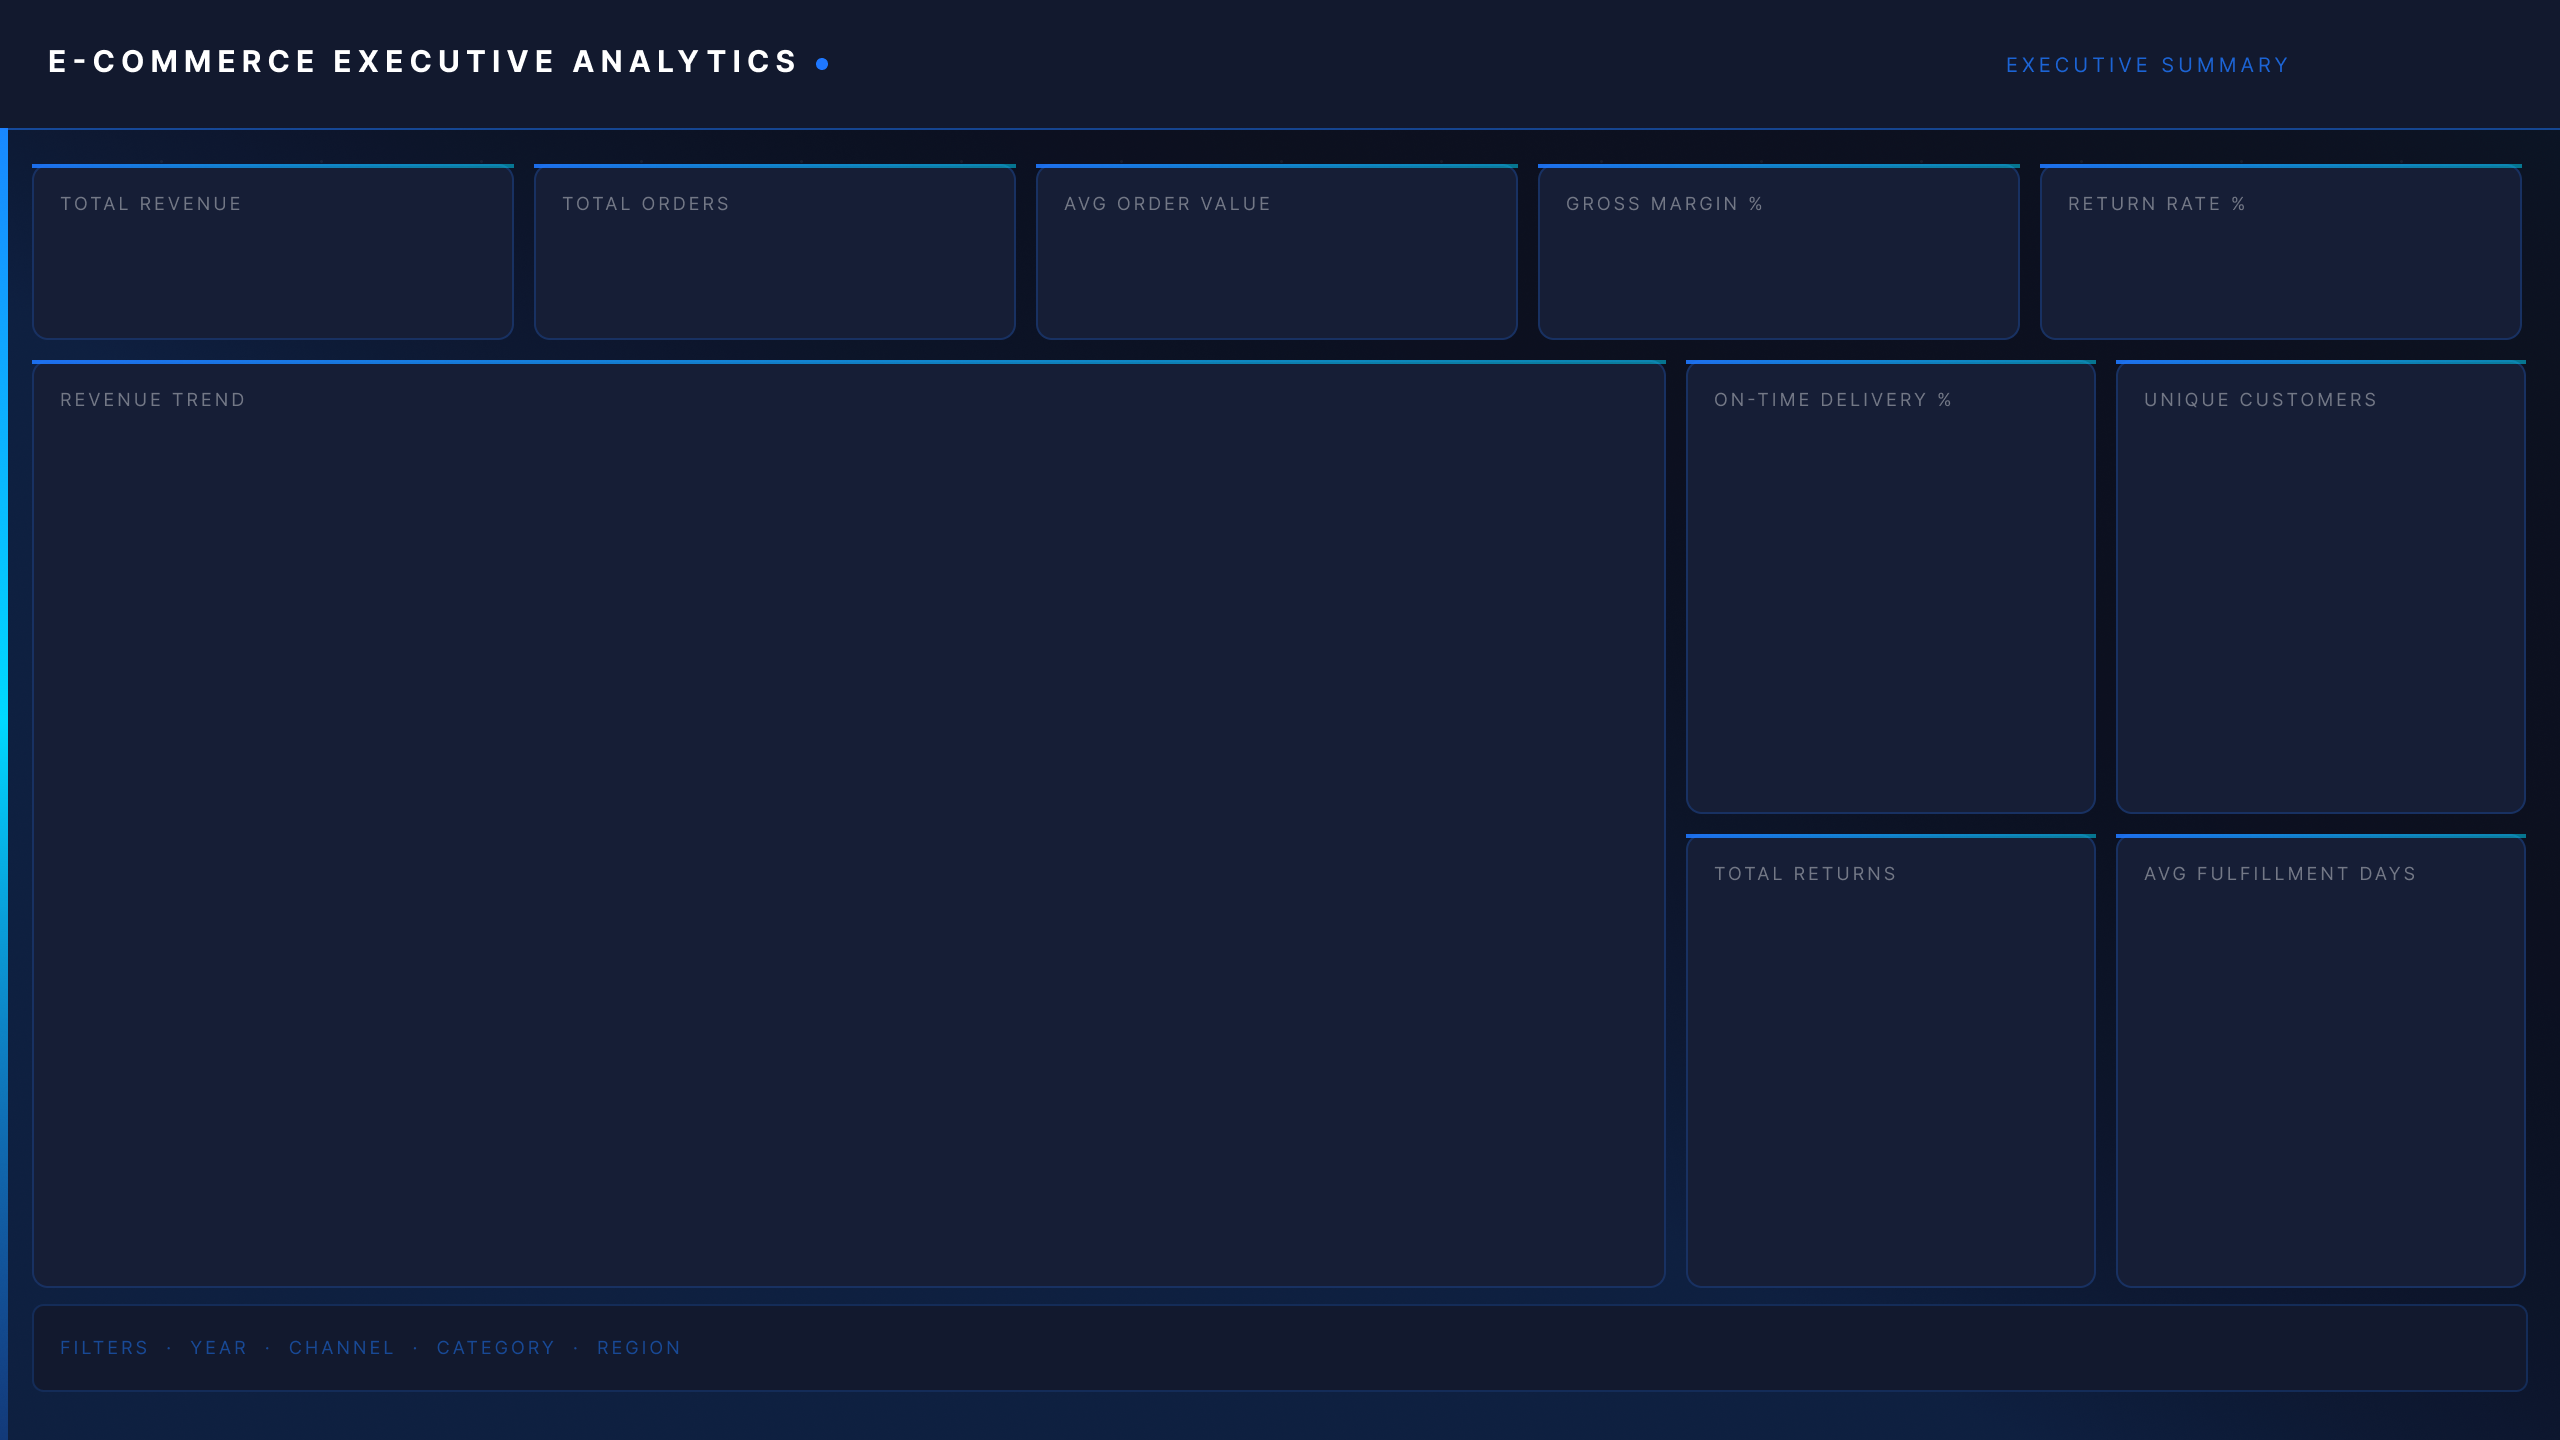

This screenshot's page, from the dashboard's own definition file:
{"tool":"powerbi","page":{"name":"Executive Summary","canvas":[1280,720],"ordinal":0},"visuals":[{"type":"cardVisual","fields":{"Data":["_Measures.Total Revenue"]},"box":[16,88,240,88],"z":0,"group":"g1"},{"type":"gauge","fields":{"Y":["_Measures.On-Time Delivery %"],"TargetValue":["_Measures.On-Time Delivery Target"]},"box":[861.9,218.5,168,176],"z":0,"group":"g2"},{"type":"cardVisual","fields":{"Data":["_Measures.Total Orders"]},"box":[264,88,248,88],"z":1000,"group":"g1"},{"type":"stackedAreaChart","fields":{"Y":["_Measures.Revenue MTD","_Measures.Revenue YTD","_Measures.Revenue Rolling 3M","_Measures.Revenue Rolling 12M"],"Category":["dim_date.Date"]},"box":[32,208,800,440],"z":1000},{"type":"gauge","fields":{"Y":["_Measures.Unique Customers"],"TargetValue":["_Measures.Unique Customers Target"]},"box":[1077.9,218.5,168,176],"z":1000,"group":"g2"},{"type":"group","id":"g1","title":"Group 1","box":[16,88,1240,88],"z":2000},{"type":"cardVisual","fields":{"Data":["_Measures.Avg Order Value"]},"box":[520,88,240,88],"z":2000,"group":"g1"},{"type":"gauge","fields":{"TargetValue":["_Measures.Total Returns Target"],"Y":["_Measures.Total Returns"]},"box":[861.9,450.5,168,176],"z":2000,"group":"g2"},{"type":"cardVisual","fields":{"Data":["_Measures.Gross Margin %"]},"box":[768,88,240,88],"z":3000,"group":"g1"},{"type":"group","id":"g2","title":"Group 2","box":[861.9,218.5,384,408],"z":3000},{"type":"gauge","fields":{"Y":["_Measures.Avg Fulfillment Days"],"TargetValue":["_Measures.Avg Fulfillment Days Target"]},"box":[1077.9,450.5,168,176],"z":3000,"group":"g2"},{"type":"cardVisual","fields":{"Data":["_Measures.Return Rate %"]},"box":[1016,88,240,88],"z":4000,"group":"g1"},{"type":"slicer","fields":{"Values":["dim_date.Year"]},"box":[32,656,416,40],"z":4000},{"type":"slicer","fields":{"Values":["dim_product.Category"]},"box":[544,656,704,40],"z":5000}]}

Visuals, with their boxes in screenshot pixels (x1, y1, x2, y2), scaled from the page's 1280x720 canvas onto the 2560x1440 screenshot:
cardVisual - _Measures.Total Revenue: {"x1": 32, "y1": 176, "x2": 512, "y2": 352}
gauge - _Measures.On-Time Delivery % x _Measures.On-Time Delivery Target: {"x1": 1724, "y1": 437, "x2": 2060, "y2": 789}
cardVisual - _Measures.Total Orders: {"x1": 528, "y1": 176, "x2": 1024, "y2": 352}
stackedAreaChart - _Measures.Revenue MTD x _Measures.Revenue YTD: {"x1": 64, "y1": 416, "x2": 1664, "y2": 1296}
gauge - _Measures.Unique Customers x _Measures.Unique Customers Target: {"x1": 2156, "y1": 437, "x2": 2492, "y2": 789}
"Group 1" group: {"x1": 32, "y1": 176, "x2": 2512, "y2": 352}
cardVisual - _Measures.Avg Order Value: {"x1": 1040, "y1": 176, "x2": 1520, "y2": 352}
gauge - _Measures.Total Returns Target x _Measures.Total Returns: {"x1": 1724, "y1": 901, "x2": 2060, "y2": 1253}
cardVisual - _Measures.Gross Margin %: {"x1": 1536, "y1": 176, "x2": 2016, "y2": 352}
"Group 2" group: {"x1": 1724, "y1": 437, "x2": 2492, "y2": 1253}
gauge - _Measures.Avg Fulfillment Days x _Measures.Avg Fulfillment Days Target: {"x1": 2156, "y1": 901, "x2": 2492, "y2": 1253}
cardVisual - _Measures.Return Rate %: {"x1": 2032, "y1": 176, "x2": 2512, "y2": 352}
slicer - dim_date.Year: {"x1": 64, "y1": 1312, "x2": 896, "y2": 1392}
slicer - dim_product.Category: {"x1": 1088, "y1": 1312, "x2": 2496, "y2": 1392}
